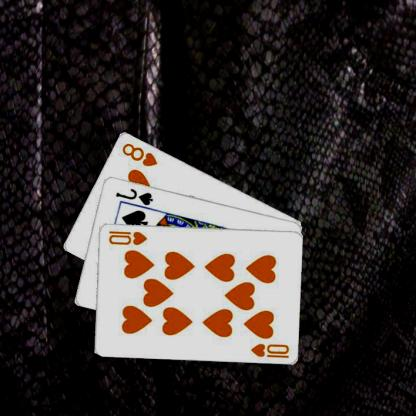10H: (250, 340, 291, 359), (107, 228, 150, 246)
8H: (121, 140, 160, 167)
JS: (115, 185, 156, 206)
